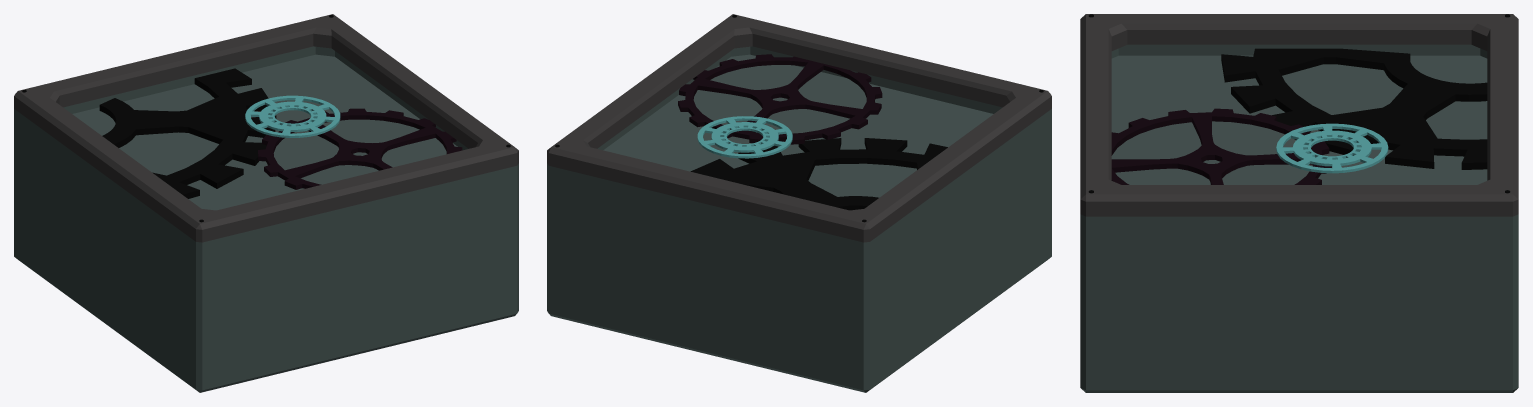
Rendered from st2_ground3.fbx.
3 views of the same model, side by side, from view 1: azimuth 30°, elevation 25°; view 2: azimuth 150°, elevation 25°; view 3: azimuth 270°, elevation 25° (orthographic). The views are drawn at different scales.
Visible parts, largest first — view 1: stage2_floor_chain_floor3; view 2: stage2_floor_chain_floor3; view 3: stage2_floor_chain_floor3.
Boxes of the visible parts, x1=… form: stage2_floor_chain_floor3: x1=14, y1=14, x2=518, y2=392; stage2_floor_chain_floor3: x1=547, y1=14, x2=1051, y2=392; stage2_floor_chain_floor3: x1=1080, y1=14, x2=1518, y2=392.
Size of the model in its own units: 400 by 201 by 400.
